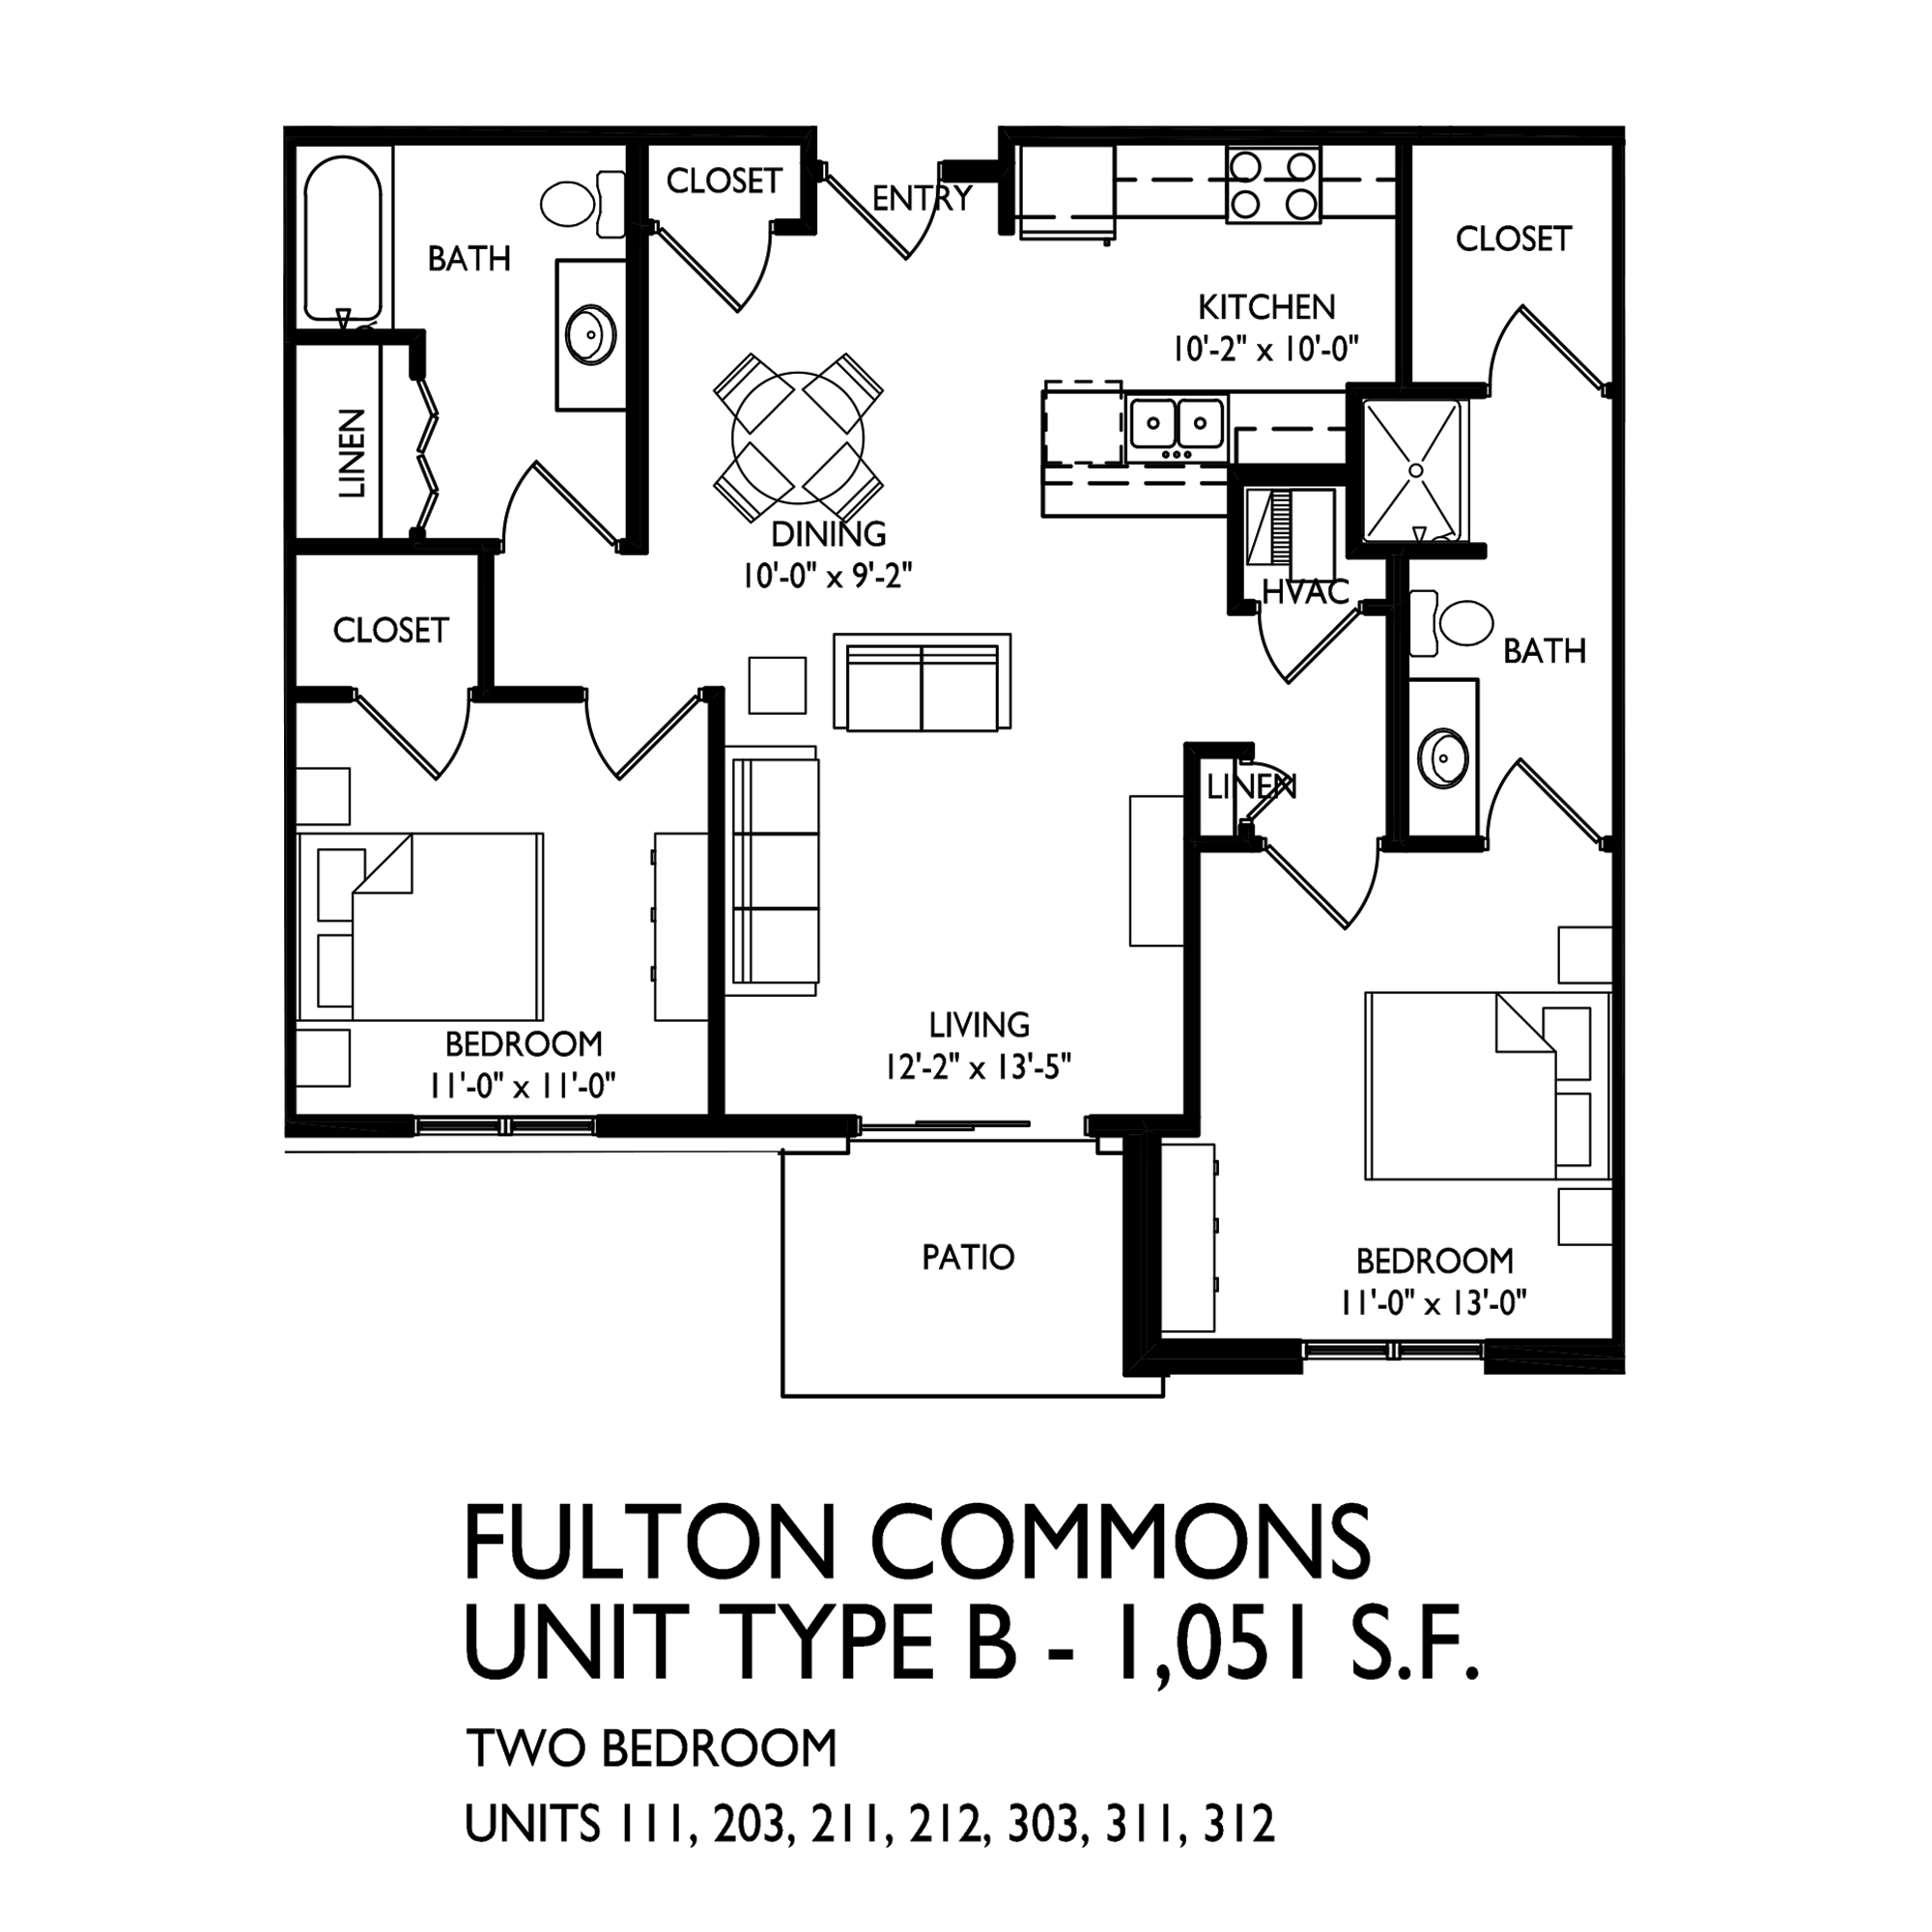room: (1131, 835, 1614, 1384), (699, 685, 1207, 1145), (633, 122, 1417, 405), (297, 686, 727, 1139), (288, 127, 665, 548), (1392, 545, 1638, 856)
